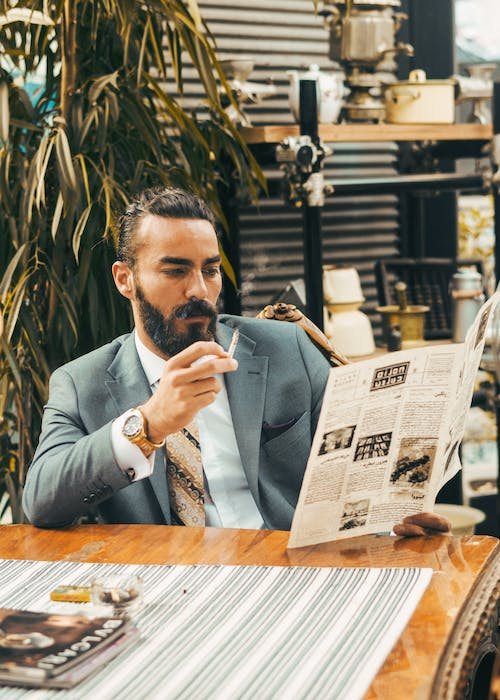cigarette: (225, 325, 241, 359)
